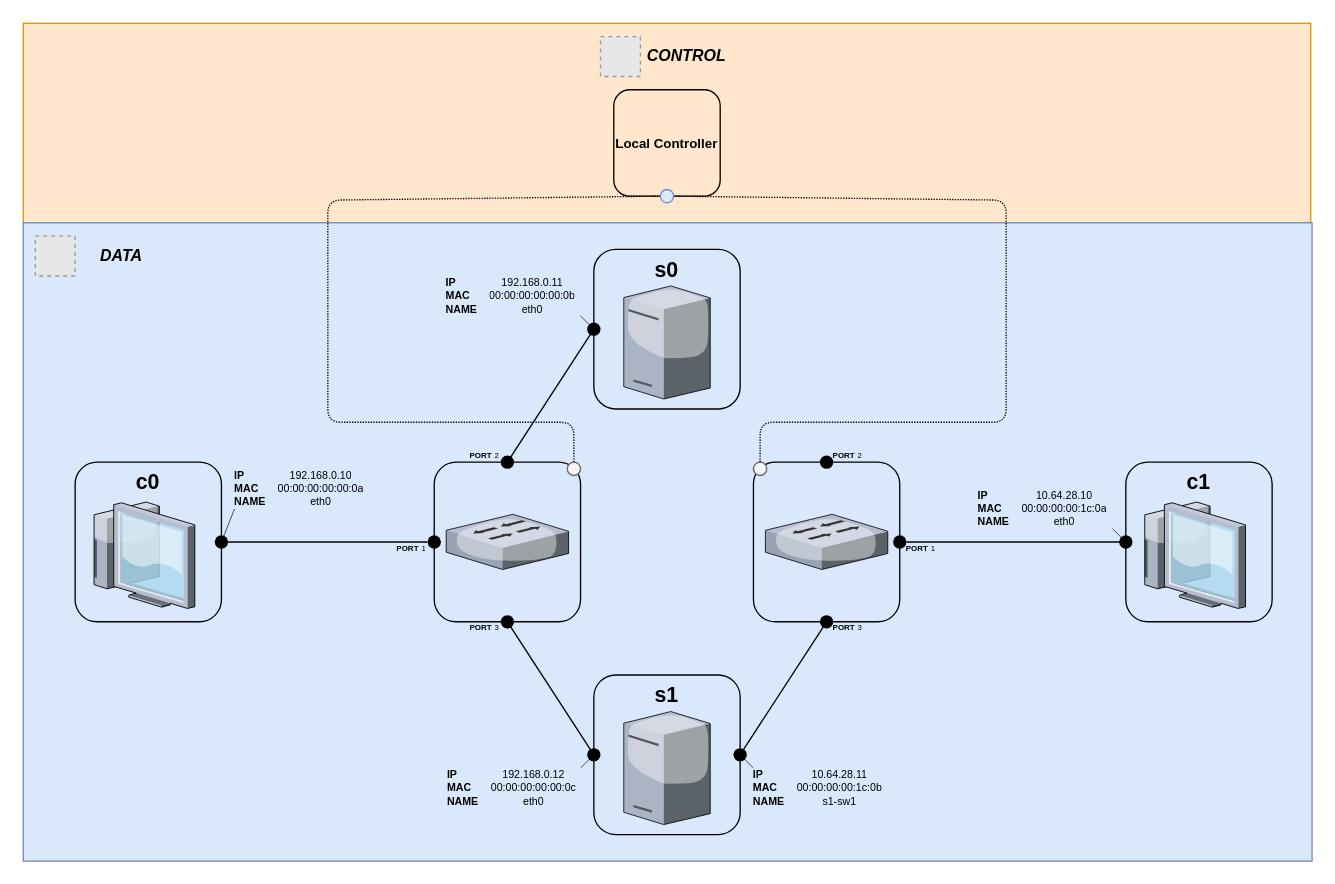
Image size: 1335x884. Some labels were removed from this diagram. Grey dashed boxes stand in for pictures. Each missing label, with the centre of its shape:
sw0: (x=507, y=541)
sw1: (x=826, y=541)
